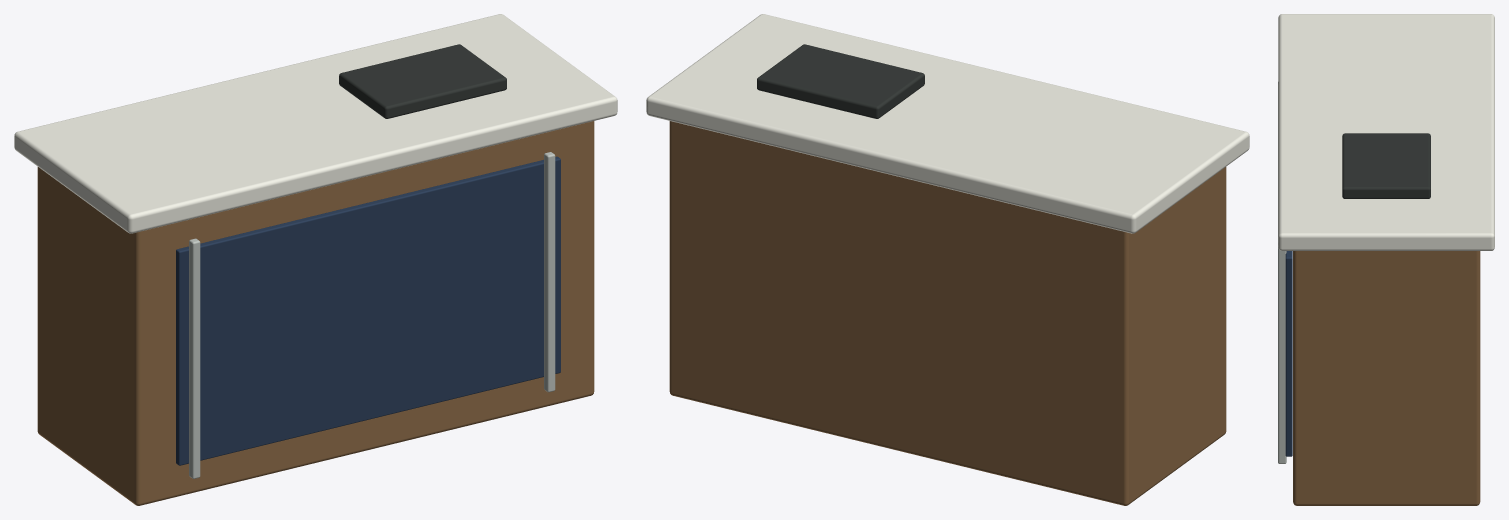
The model's file is planetarium-and-optical-observatory-ticket-desk-6c5fff08__31835.glb.
3 renders of one model, left to right at view 1: azimuth 30°, elevation 25°; view 2: azimuth 150°, elevation 25°; view 3: azimuth 270°, elevation 25°, orthographic. The views are drawn at different scales.
Visible parts, largest first — view 1: ticket-desk; view 2: ticket-desk; view 3: ticket-desk.
Part boxes in pixels (x1,y1,x2,y2): ticket-desk: [14, 14, 617, 505]; ticket-desk: [646, 14, 1249, 505]; ticket-desk: [1278, 14, 1494, 505].
Size of the model in its own units: 1.6 by 0.98 by 0.661.
